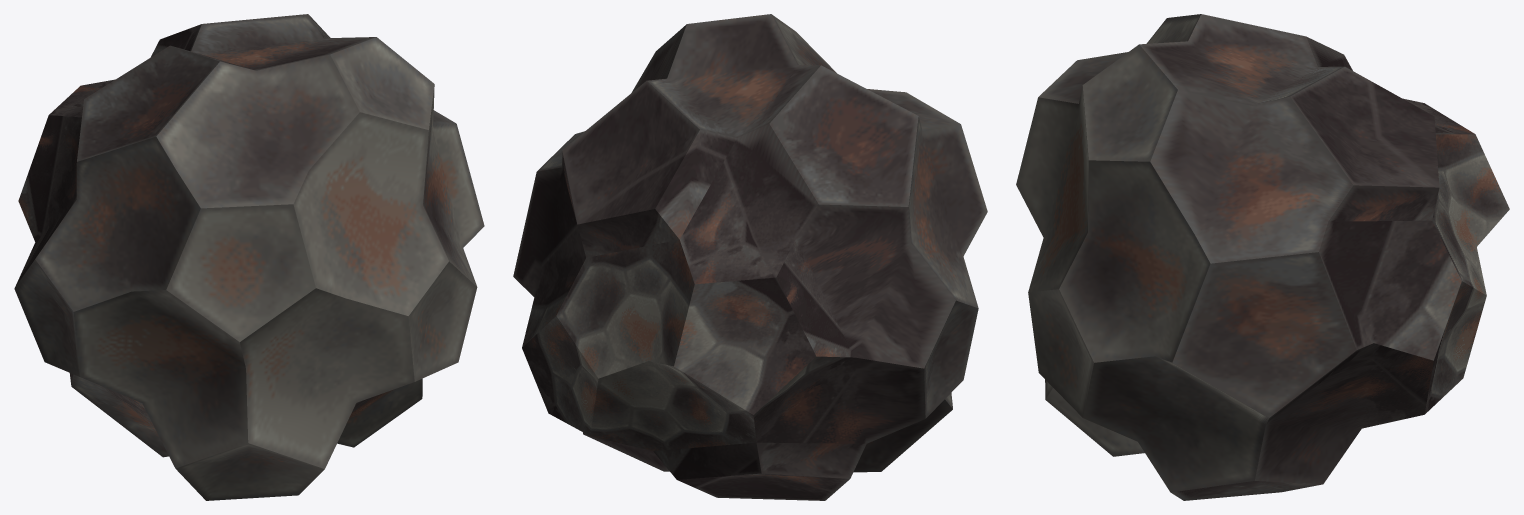
Rendered from meteorite_01.glb.
3 views of the same model, side by side, from view 1: azimuth 30°, elevation 25°; view 2: azimuth 150°, elevation 25°; view 3: azimuth 270°, elevation 25° (orthographic). The views are drawn at different scales.
Visible parts, largest first — view 1: meteorite.meteorite_01-Mesh[0]; view 2: meteorite.meteorite_01-Mesh[0]; view 3: meteorite.meteorite_01-Mesh[0].
Part boxes in pixels (box(x1,y1,x2,y2)): meteorite.meteorite_01-Mesh[0]: box(14, 14, 484, 500); meteorite.meteorite_01-Mesh[0]: box(513, 14, 987, 500); meteorite.meteorite_01-Mesh[0]: box(1016, 14, 1509, 500).
Bounding box in the file's own units: 1.11 × 1.09 × 1.12.
1 material, 1 textured.
